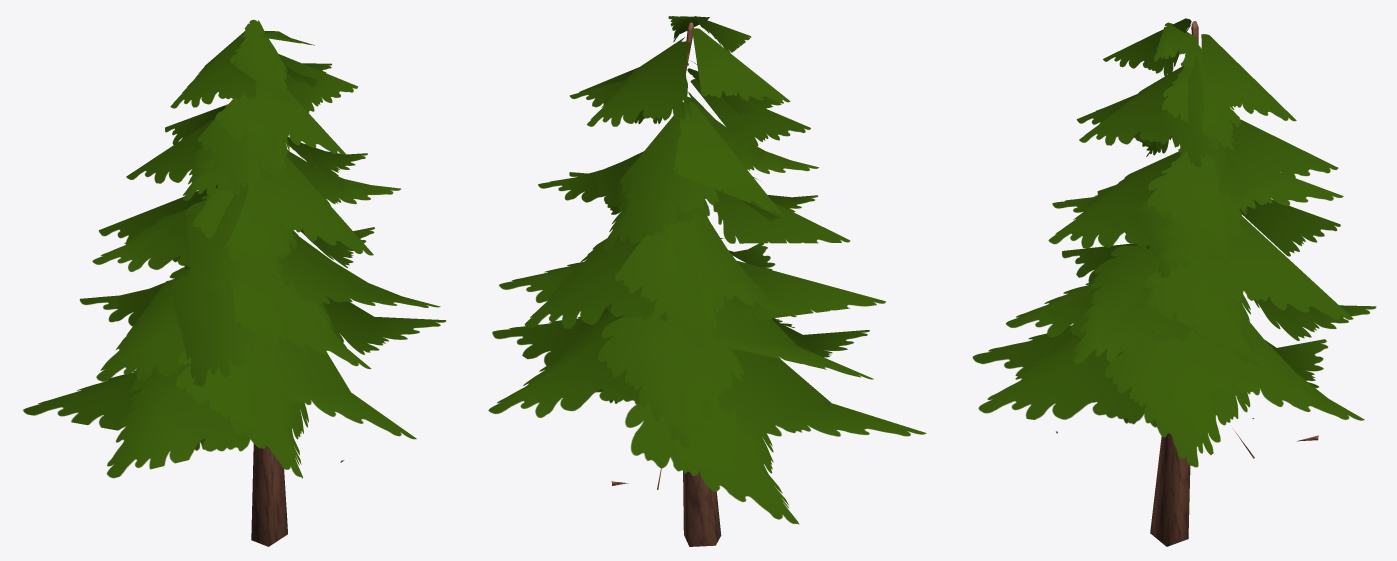
Rendered from spruce-5-far.glb.
3 views of the same model, side by side, from view 1: azimuth 30°, elevation 25°; view 2: azimuth 150°, elevation 25°; view 3: azimuth 270°, elevation 25° (orthographic). The views are drawn at different scales.
Visible parts, largest first — view 1: Pine_2; view 2: Pine_2; view 3: Pine_2.
Boxes of the visible parts, x1,y1,x2,y2 form: Pine_2: (23, 19, 446, 546); Pine_2: (488, 16, 926, 546); Pine_2: (972, 18, 1376, 546).
Bounding box in the file's own units: 5.73 × 7.2 × 5.22.
2 materials, 2 textured.
